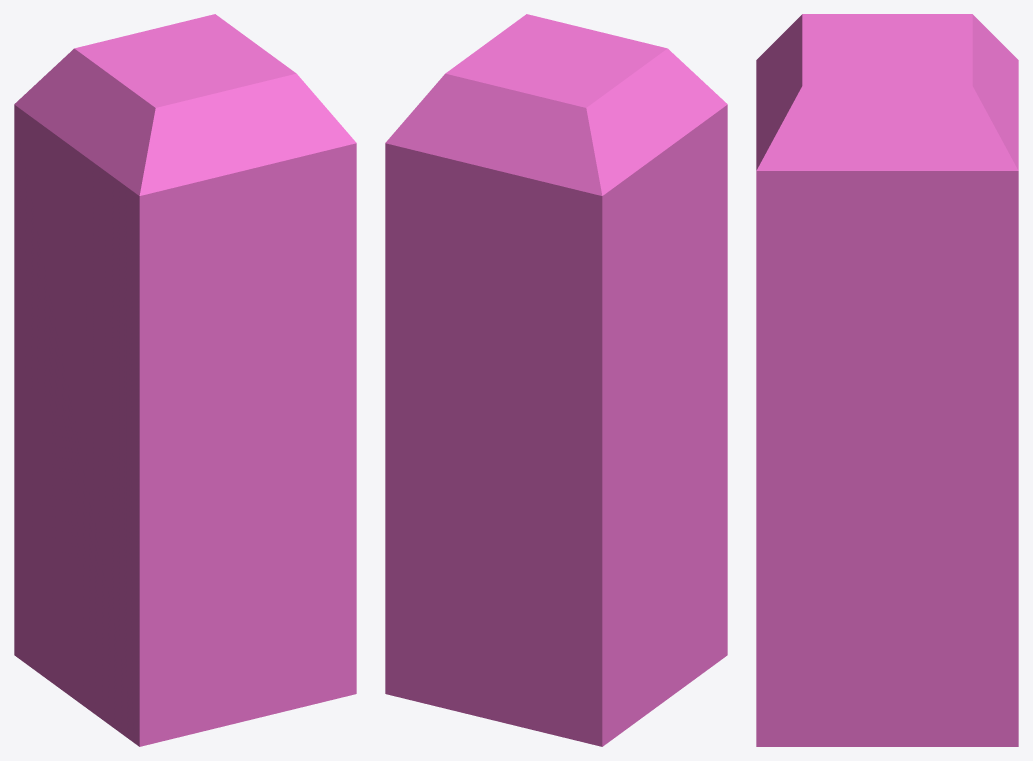
The model's file is Crystal_Pink_B.fbx.
The picture shows the model from 3 angles, left to right: view 1: azimuth 30°, elevation 25°; view 2: azimuth 150°, elevation 25°; view 3: azimuth 270°, elevation 25°; orthographic projection. The views are drawn at different scales.
Parts seen in each view (by area): view 1: Crystal_Pink_B; view 2: Crystal_Pink_B; view 3: Crystal_Pink_B.
Part boxes in pixels (bbox=[...]): Crystal_Pink_B: bbox=[14, 14, 356, 746]; Crystal_Pink_B: bbox=[385, 14, 727, 746]; Crystal_Pink_B: bbox=[756, 14, 1018, 746].
Bounding box in the file's own units: 38.15 × 103 × 38.15.
